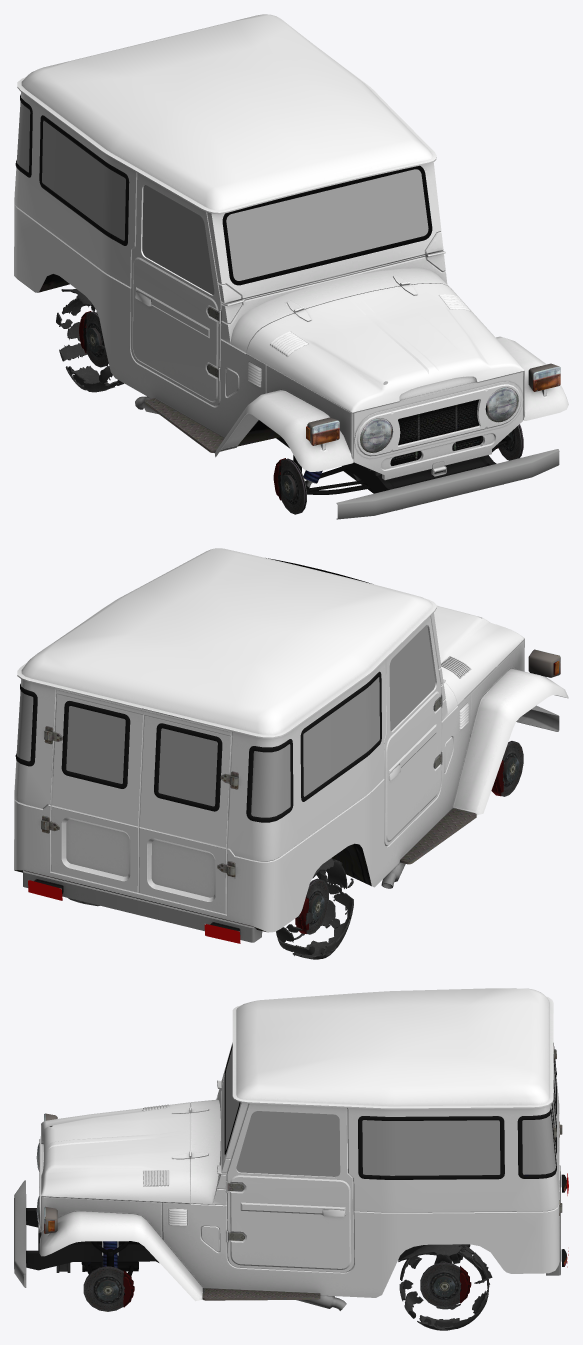
Rendered from 32_ToyotaFJ.fbx.
The picture shows the model from 3 angles, top to bottom: view 1: azimuth 30°, elevation 25°; view 2: azimuth 150°, elevation 25°; view 3: azimuth 270°, elevation 25°; orthographic projection. The views are drawn at different scales.
Parts seen in each view (by area): view 1: body_duco, body_glass, Kit_00_Duco, body_matte, body_chrome, body_glossy, Rotor (×2); view 2: body_duco, body_glass, body_matte, Kit_00_Duco, body_chrome, Rotor (×2), body_glossy, BrakeLights; view 3: body_duco, body_glass, Kit_00_Duco, body_matte, Rotor (×2), body_chrome, body_glossy, Tyre_Explode_09.
Part boxes in pixels (x1,y1,x2,y2): body_duco: (14, 14, 568, 510); body_glass: (16, 102, 428, 294); Kit_00_Duco: (246, 275, 524, 413); body_matte: (15, 94, 511, 494); body_chrome: (336, 449, 559, 519); body_glossy: (135, 363, 560, 452); Rotor (×2): (85, 311, 306, 514); body_duco: (14, 548, 568, 932); body_glass: (16, 625, 435, 817); body_matte: (15, 558, 381, 931); Kit_00_Duco: (434, 605, 524, 704); body_chrome: (23, 705, 559, 942); Rotor (×2): (306, 741, 523, 934); body_glossy: (34, 649, 560, 931); BrakeLights: (28, 880, 240, 943); body_duco: (26, 988, 562, 1301); body_glass: (225, 1048, 555, 1176); Kit_00_Duco: (41, 1102, 208, 1203); body_matte: (56, 1043, 556, 1275); Rotor (×2): (83, 1262, 461, 1311); body_chrome: (14, 1165, 560, 1287); body_glossy: (36, 1113, 566, 1310); Tyre_Explode_09: (398, 1244, 461, 1261).
Size of what is drawn, in the model's own units: 1.77 by 1.84 by 3.67.
